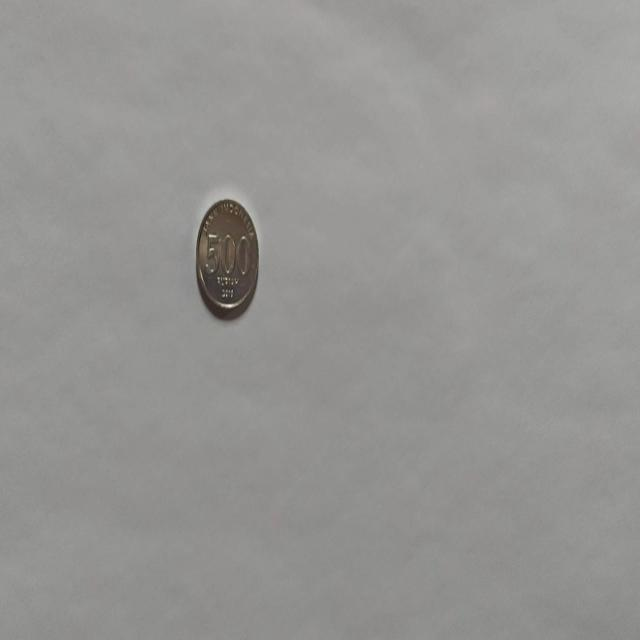lima ratus rupiah: (194, 196, 260, 320)
